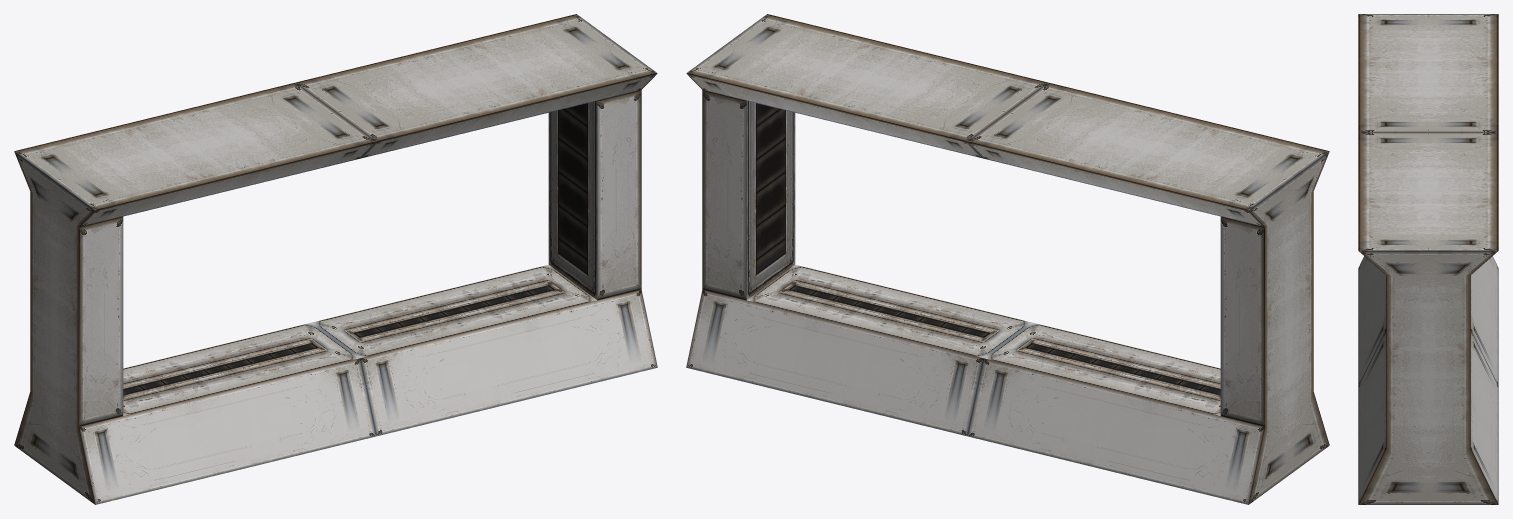
Rendered from scifi_window_big2.FBX.
The picture shows the model from 3 angles, left to right: view 1: azimuth 30°, elevation 25°; view 2: azimuth 150°, elevation 25°; view 3: azimuth 270°, elevation 25°; orthographic projection. The views are drawn at different scales.
Visible parts, largest first — view 1: Plane153; view 2: Plane153; view 3: Plane153.
Part boxes in pixels (x1=…): Plane153: x1=14, y1=14, x2=657, y2=504; Plane153: x1=686, y1=14, x2=1329, y2=504; Plane153: x1=1358, y1=14, x2=1498, y2=504.
Size of the model in its own units: 508 by 254 by 127.
